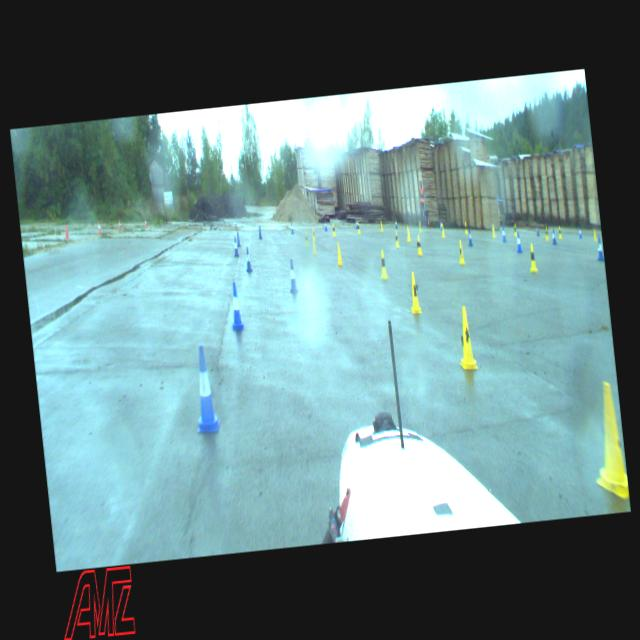blue_cone: (188, 344, 220, 434), (228, 281, 244, 330), (287, 260, 298, 292), (594, 235, 604, 261), (243, 246, 252, 272), (514, 230, 522, 253), (232, 235, 240, 258), (550, 228, 556, 245), (235, 230, 241, 247), (467, 228, 472, 246), (501, 225, 506, 242), (577, 225, 582, 238), (393, 217, 398, 229), (258, 226, 262, 239), (536, 224, 540, 237), (290, 222, 294, 234), (354, 218, 358, 230), (323, 220, 327, 231), (439, 220, 443, 231)
orange_cone: (64, 223, 69, 239), (96, 220, 100, 233), (144, 217, 147, 226)
yellow_cone: (585, 380, 629, 500), (453, 305, 478, 371), (406, 271, 422, 314), (377, 248, 389, 280), (527, 242, 537, 272), (456, 238, 465, 265), (335, 241, 343, 265), (415, 234, 423, 256), (392, 229, 400, 247), (406, 226, 412, 242), (311, 236, 316, 254), (490, 224, 496, 238), (303, 230, 308, 244), (592, 227, 597, 241), (356, 220, 361, 233), (463, 221, 468, 234), (558, 225, 562, 239), (544, 226, 548, 240), (440, 223, 444, 237), (332, 223, 336, 236), (512, 222, 516, 235), (379, 220, 383, 232), (418, 220, 422, 232), (312, 226, 314, 239)
